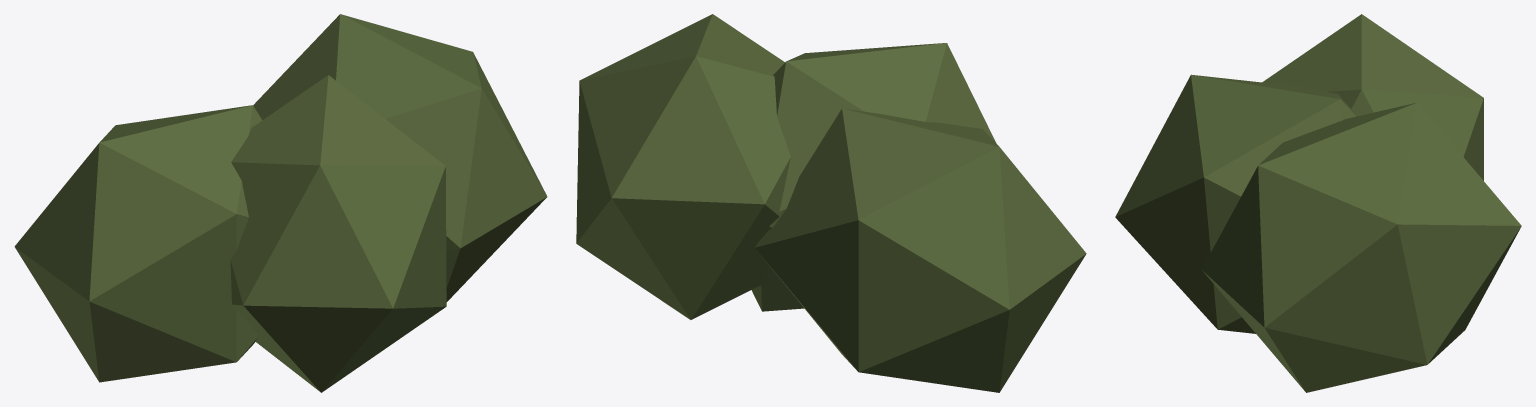
The picture shows the model from 3 angles, left to right: view 1: azimuth 30°, elevation 25°; view 2: azimuth 150°, elevation 25°; view 3: azimuth 270°, elevation 25°; orthographic projection. The views are drawn at different scales.
Visible parts, largest first — view 1: V05_深绿矮灌丛; view 2: V05_深绿矮灌丛; view 3: V05_深绿矮灌丛.
Boxes of the visible parts, x1=… form: V05_深绿矮灌丛: x1=14, y1=14, x2=547, y2=392; V05_深绿矮灌丛: x1=576, y1=14, x2=1086, y2=392; V05_深绿矮灌丛: x1=1115, y1=14, x2=1521, y2=392.
Bounding box in the file's own units: 0.7965 × 0.4814 × 0.6229.
